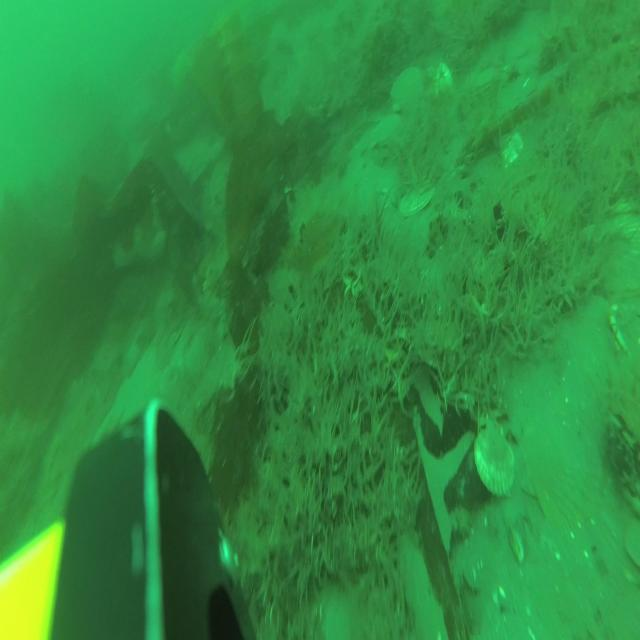scallop: (472, 420, 516, 495), (391, 67, 431, 121), (398, 182, 434, 214), (436, 60, 459, 100), (500, 128, 521, 170), (372, 116, 398, 148), (473, 66, 495, 95)
